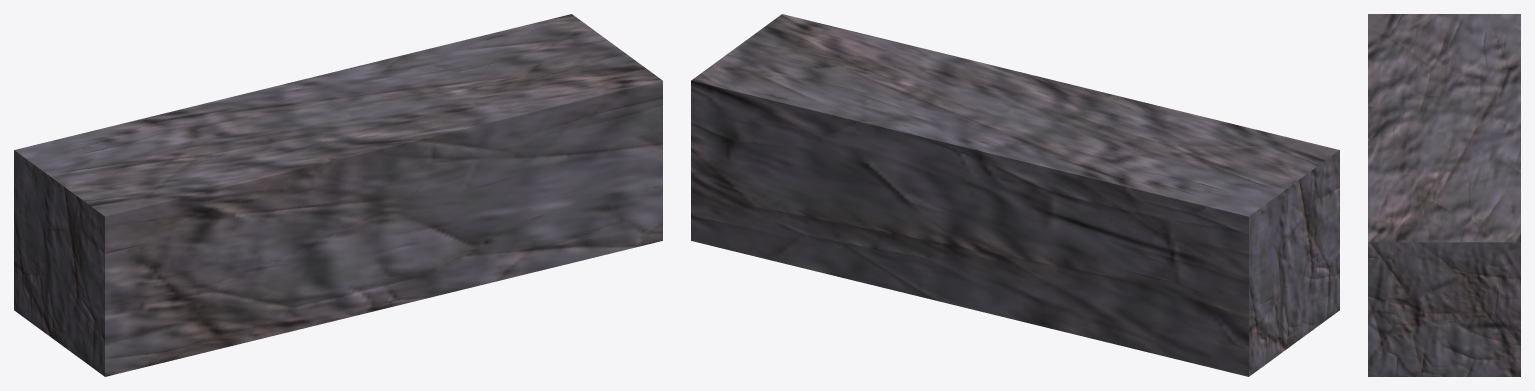
The model's file is Wall_back.fbx.
3 views of the same model, side by side, from view 1: azimuth 30°, elevation 25°; view 2: azimuth 150°, elevation 25°; view 3: azimuth 270°, elevation 25° (orthographic). The views are drawn at different scales.
Parts seen in each view (by area): view 1: block; view 2: block; view 3: block.
Part boxes in pixels (x1,y1,x2,y2): block: (14,14,662,376); block: (691,14,1339,376); block: (1368,14,1520,376).
Bounding box in the file's own units: 2330 × 640 × 658.
Materials: 1 (1 with a texture image).
